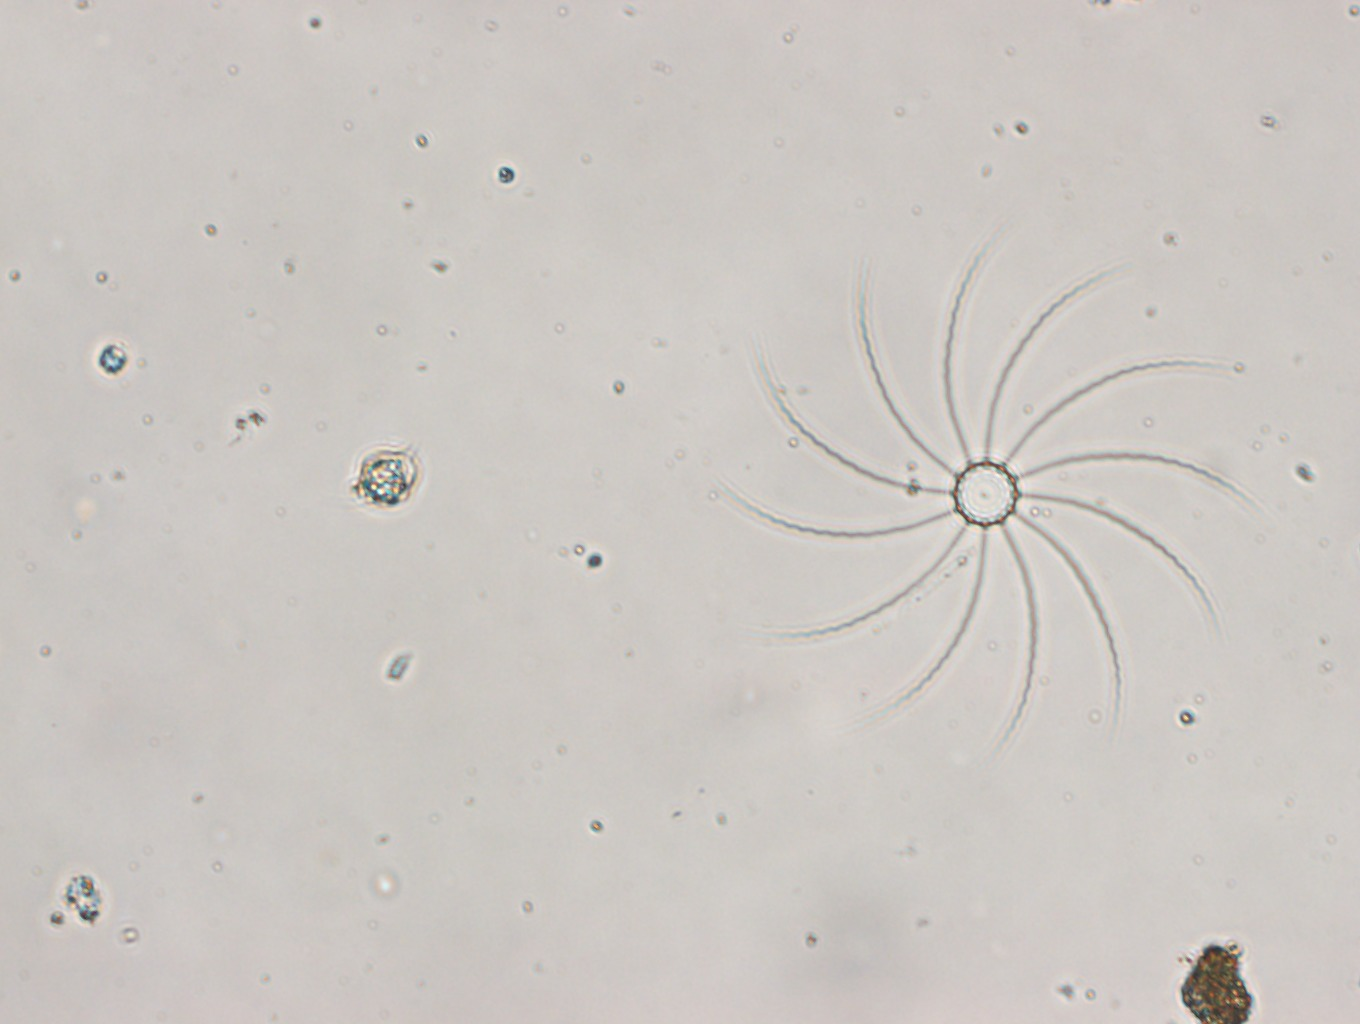bacteriastrum: (741, 245, 1259, 739)
